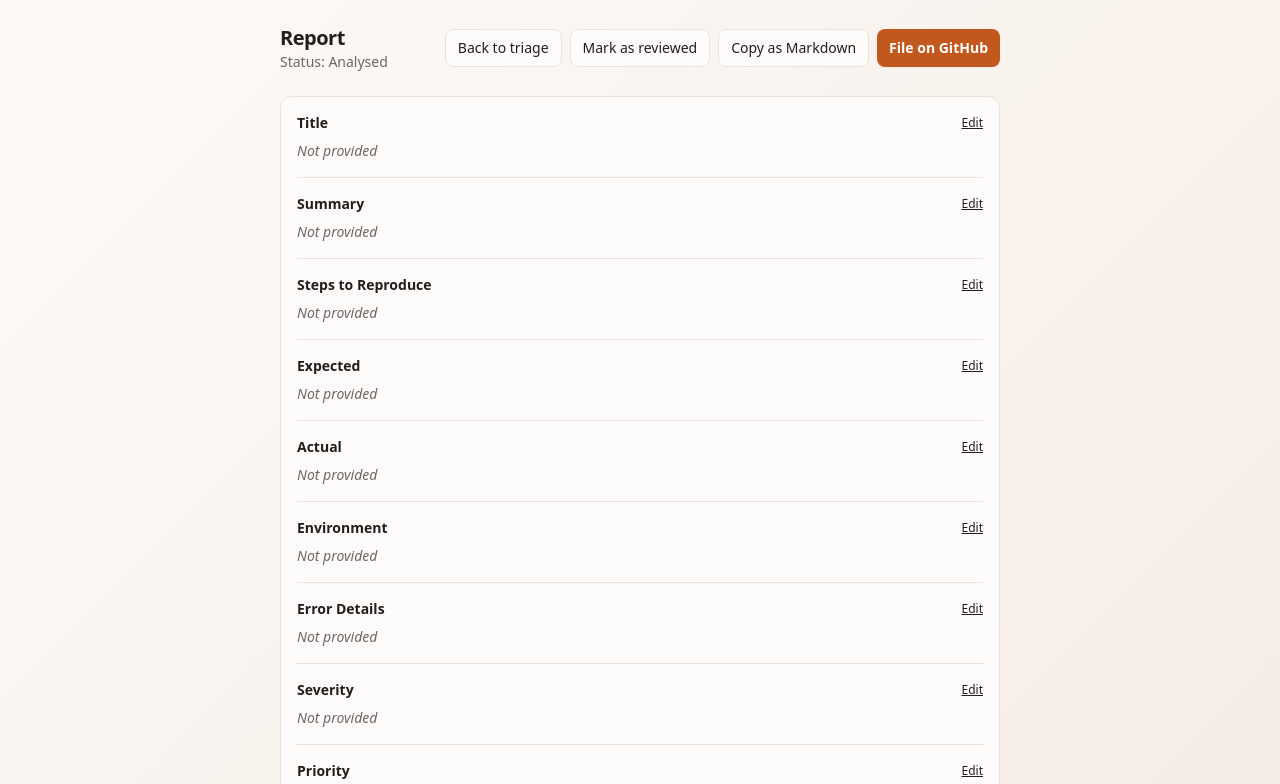
Scenario: GeneratedReport › asks for name: value lines in the environment editor
Click the button with aria-label "Edit Environment".
click(972, 528)  # box [962,520,983,536]
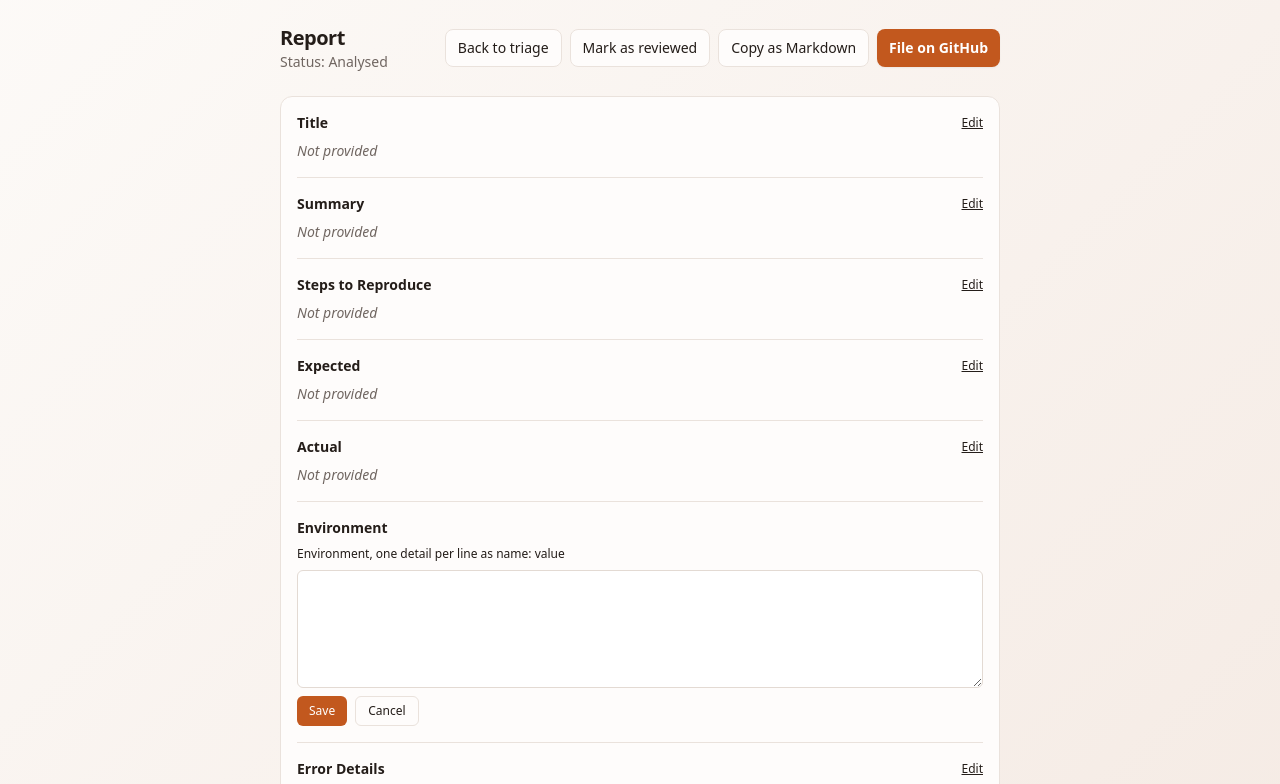
Type "Chrome" into the text box labelled "Environment, one detail per line as name: value".
click(640, 629); type("Chrome")  # box [297,570,983,688]
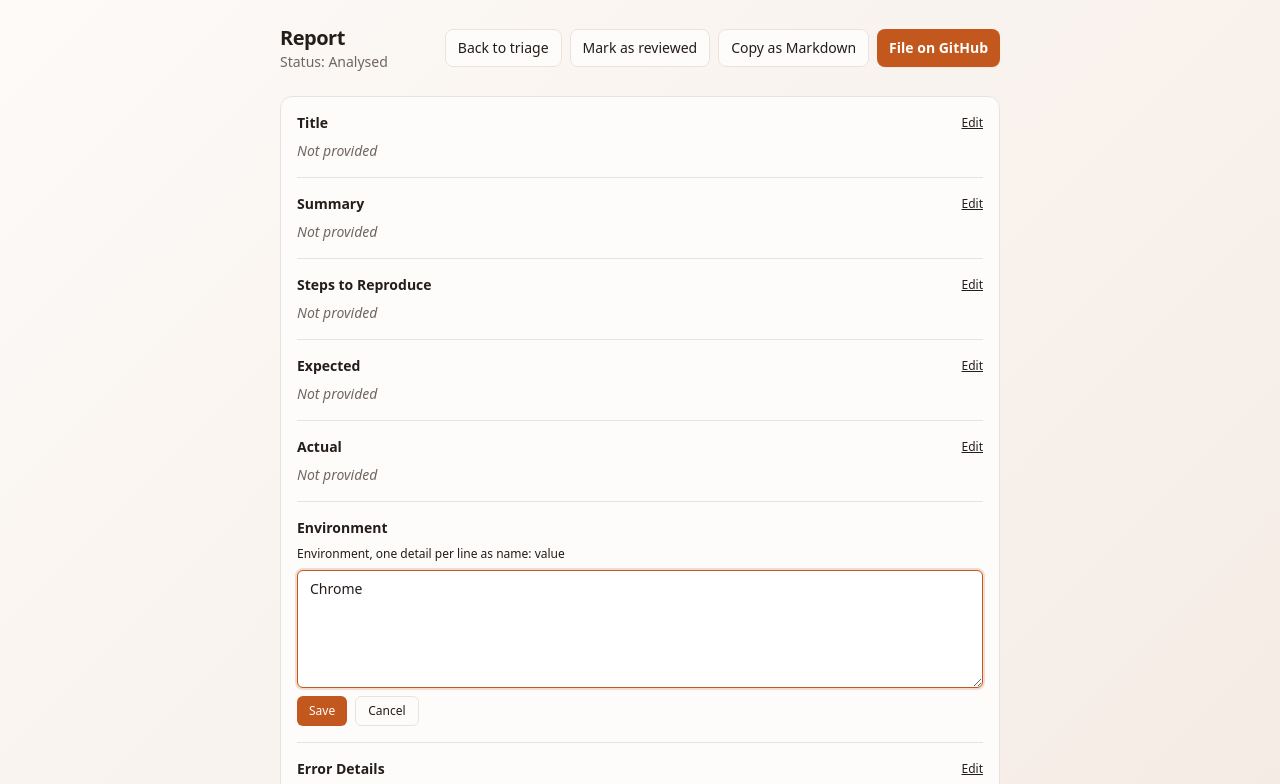
Click the button "Save".
click(322, 711)  # box [297,696,347,726]
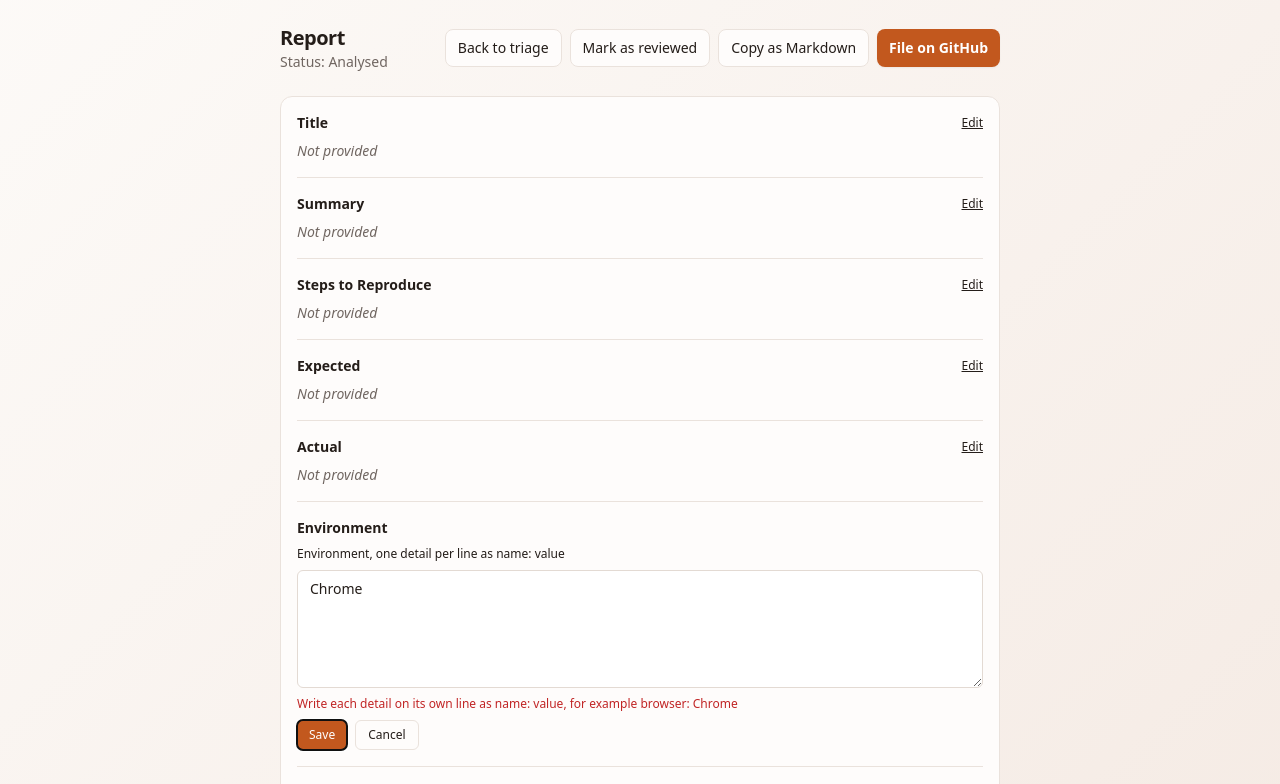
Expected: the text "Write each detail on its own line" is shown, [297,695,738,712]
